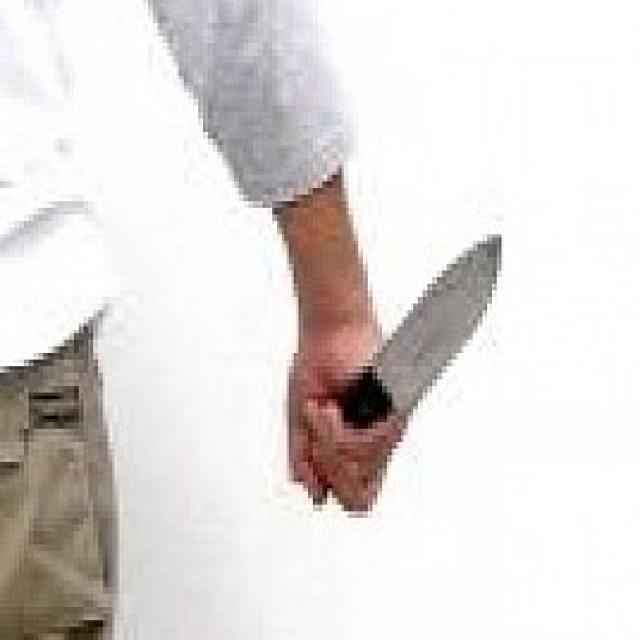knife: (340, 236, 514, 449)
